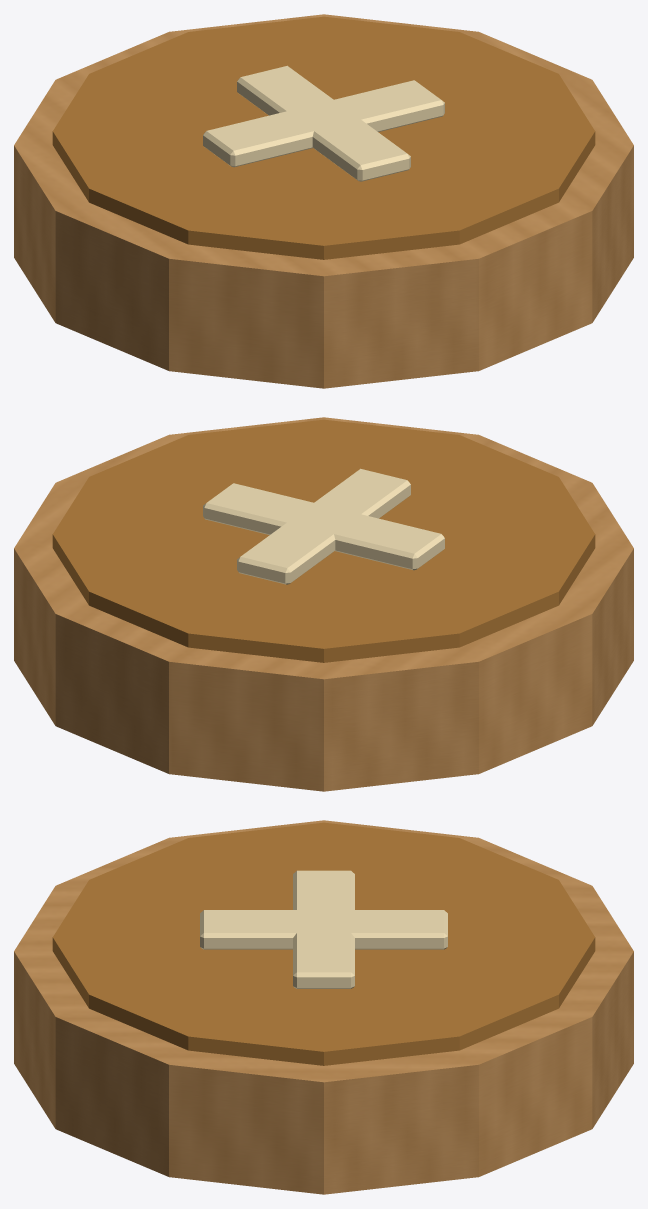
The model's file is skill.glb.
3 views of the same model, one above another, from view 1: azimuth 30°, elevation 25°; view 2: azimuth 150°, elevation 25°; view 3: azimuth 270°, elevation 25° (orthographic).
Visible parts, largest first — view 1: wood-edge, painted-face, emblem-cross, emblem; view 2: wood-edge, painted-face, emblem-cross, emblem; view 3: wood-edge, painted-face, emblem-cross, emblem.
Boxes of the visible parts, bbox=[...] form: wood-edge: bbox=[14, 14, 633, 388]; painted-face: bbox=[52, 16, 595, 259]; emblem-cross: bbox=[237, 65, 410, 181]; emblem: bbox=[203, 80, 444, 167]; wood-edge: bbox=[14, 417, 633, 791]; painted-face: bbox=[52, 419, 595, 662]; emblem-cross: bbox=[237, 468, 410, 584]; emblem: bbox=[203, 483, 444, 570]; wood-edge: bbox=[14, 820, 633, 1194]; painted-face: bbox=[52, 822, 595, 1065]; emblem-cross: bbox=[200, 910, 447, 949]; emblem: bbox=[293, 870, 354, 988].
Bounding box in the file's own units: 0.7506 × 0.19 × 0.7506.
3 materials, 1 textured.
